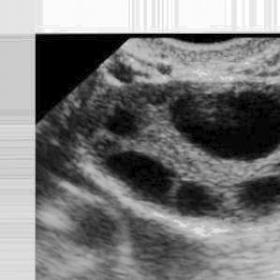PCOS: (165, 91, 280, 162), (108, 152, 174, 199), (228, 174, 280, 213), (103, 103, 143, 143), (173, 179, 217, 214)
